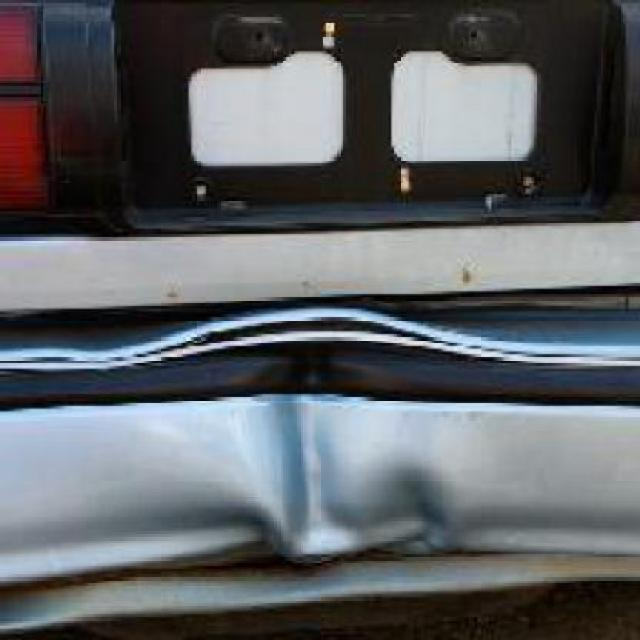dent-or-scratch: (132, 316, 496, 562)
